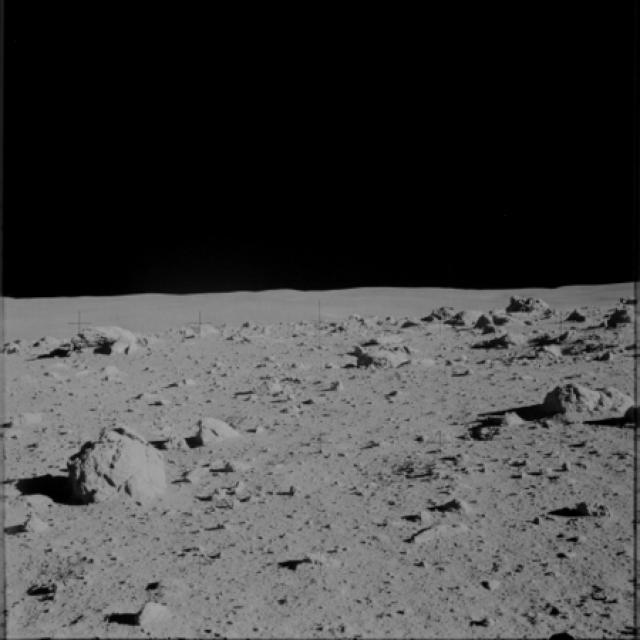rock: (61, 424, 180, 516), (36, 322, 147, 366), (534, 378, 625, 419), (402, 515, 480, 551), (341, 341, 411, 375), (422, 306, 512, 332), (123, 594, 173, 628), (287, 548, 339, 579), (188, 416, 232, 450), (0, 331, 58, 356), (30, 569, 76, 598), (508, 290, 559, 315), (532, 324, 599, 342), (88, 358, 130, 386), (478, 332, 528, 355), (570, 494, 612, 520), (0, 409, 42, 434), (178, 456, 208, 488), (220, 452, 256, 476), (602, 302, 639, 325), (20, 512, 49, 540), (530, 341, 570, 360), (598, 344, 628, 368), (438, 494, 474, 514), (498, 405, 524, 431), (567, 304, 595, 326)
